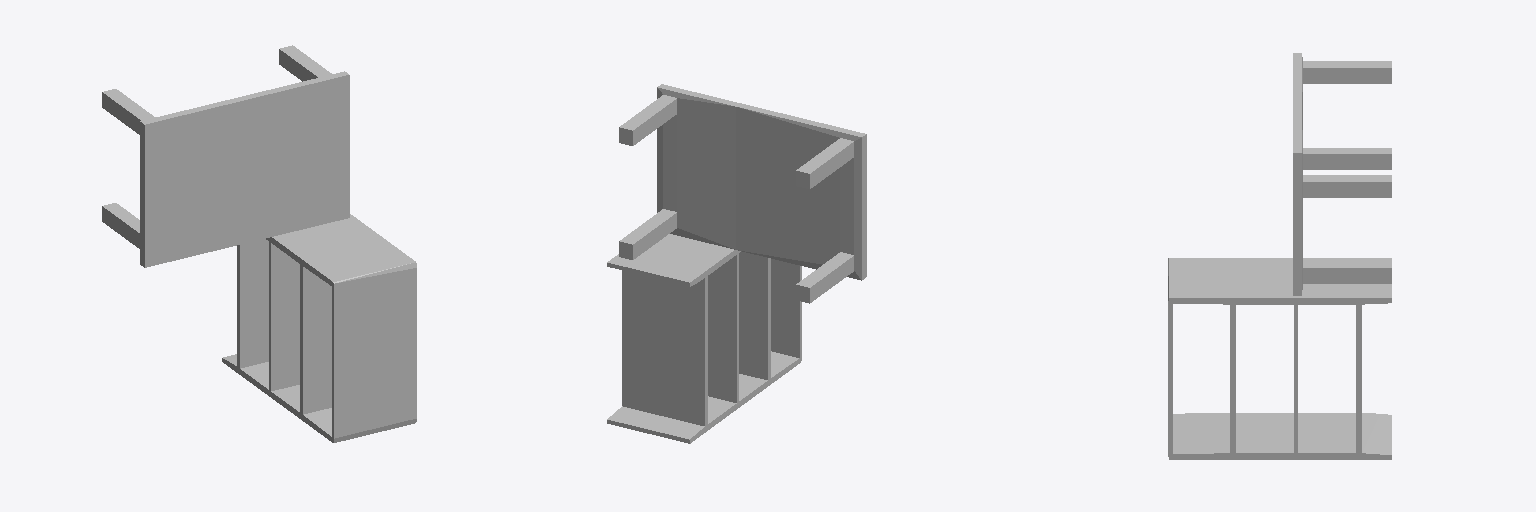
File: bookshelves_table_center-acd.obj
3 views of the same model, side by side, from view 1: azimuth 30°, elevation 25°; view 2: azimuth 150°, elevation 25°; view 3: azimuth 270°, elevation 25° (orthographic).
Visible parts, largest first — view 1: convex_0, convex_11, convex_3, convex_9, convex_10, convex_8, convex_7, convex_6, convex_2, convex_5, convex_1; view 2: convex_0, convex_7, convex_3, convex_8, convex_10, convex_9, convex_6, convex_11, convex_1, convex_5, convex_4, convex_2; view 3: convex_6, convex_9, convex_1, convex_2, convex_4, convex_5, convex_3, convex_7, convex_10, convex_11, convex_0, convex_8.
Boxes of the visible parts, x1,y1,x2,y2 form: convex_0: [140, 91, 270, 267]; convex_11: [332, 268, 416, 438]; convex_3: [266, 71, 349, 236]; convex_9: [266, 214, 416, 287]; convex_10: [300, 264, 331, 414]; convex_8: [269, 242, 299, 390]; convex_7: [237, 239, 268, 368]; convex_6: [222, 354, 416, 442]; convex_2: [102, 89, 155, 134]; convex_5: [279, 45, 331, 81]; convex_1: [102, 203, 139, 248]; convex_0: [736, 103, 866, 280]; convex_7: [622, 270, 707, 425]; convex_3: [657, 84, 739, 249]; convex_8: [708, 254, 738, 402]; convex_10: [739, 251, 770, 379]; convex_9: [607, 234, 740, 286]; convex_6: [607, 351, 801, 443]; convex_11: [771, 259, 801, 357]; convex_1: [796, 252, 853, 303]; convex_5: [619, 95, 676, 145]; convex_4: [619, 209, 676, 259]; convex_2: [796, 138, 853, 188]; convex_6: [1168, 413, 1391, 459]; convex_9: [1168, 258, 1391, 304]; convex_1: [1303, 175, 1391, 197]; convex_2: [1303, 61, 1391, 83]; convex_4: [1303, 262, 1391, 283]; convex_5: [1303, 148, 1391, 169]; convex_3: [1293, 114, 1302, 295]; convex_7: [1356, 305, 1361, 452]; convex_10: [1230, 305, 1235, 452]; convex_11: [1168, 304, 1172, 453]; convex_0: [1293, 53, 1302, 129]; convex_8: [1294, 305, 1297, 452].
Size of the model in its own units: 1.54 by 2.14 by 1.43.